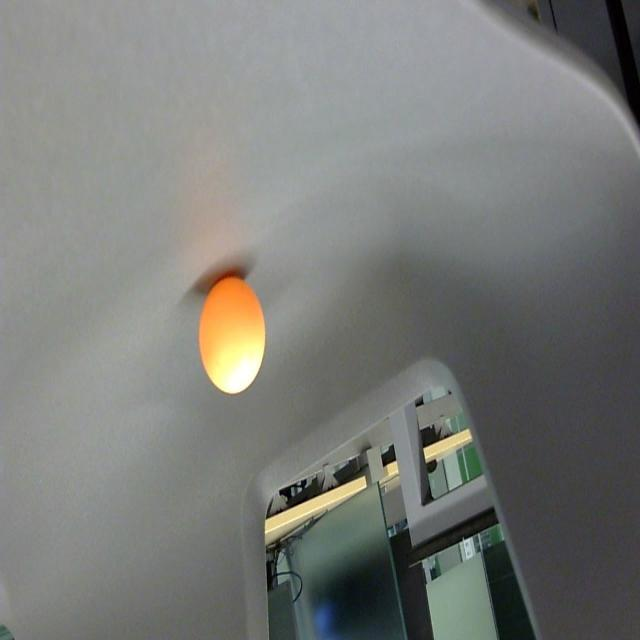ball: (198, 273, 268, 398)
